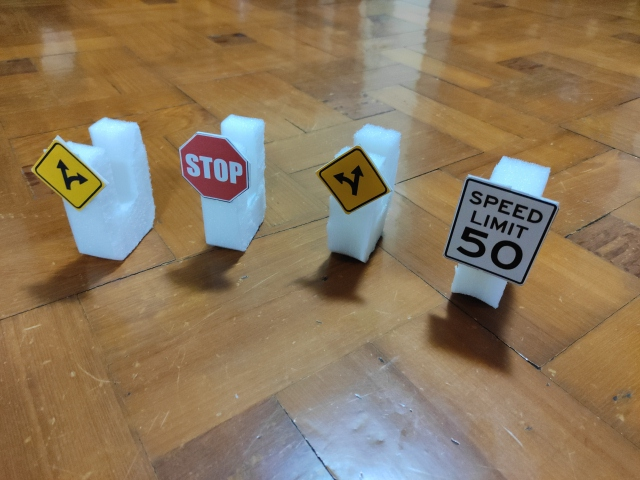Speed Limit 50: (443, 175, 558, 285)
Stop Sign: (178, 132, 251, 203)
Straight Or Left Sign: (316, 147, 390, 213)
Straight Or Right Sign: (31, 139, 108, 211)
